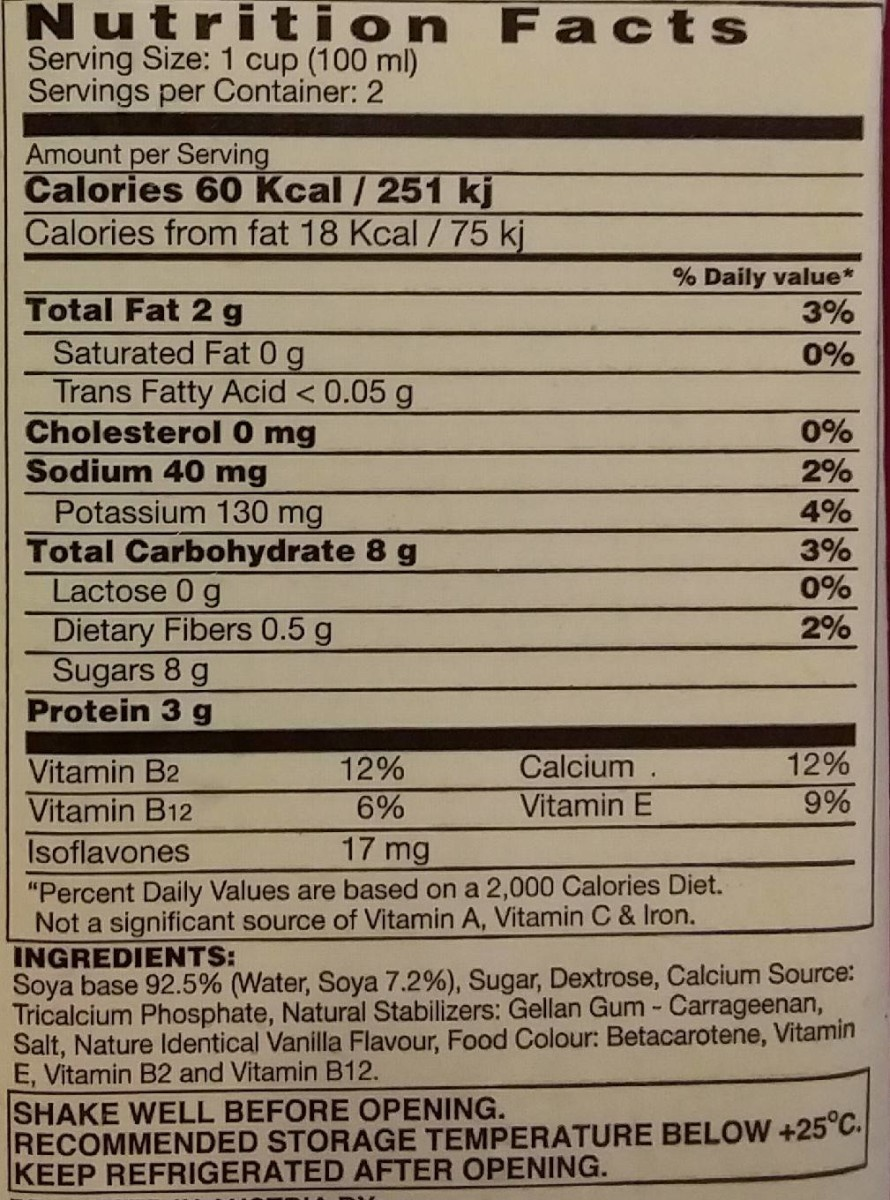column: (26, 264, 427, 724), (673, 266, 857, 717)
table: (22, 143, 866, 724)
